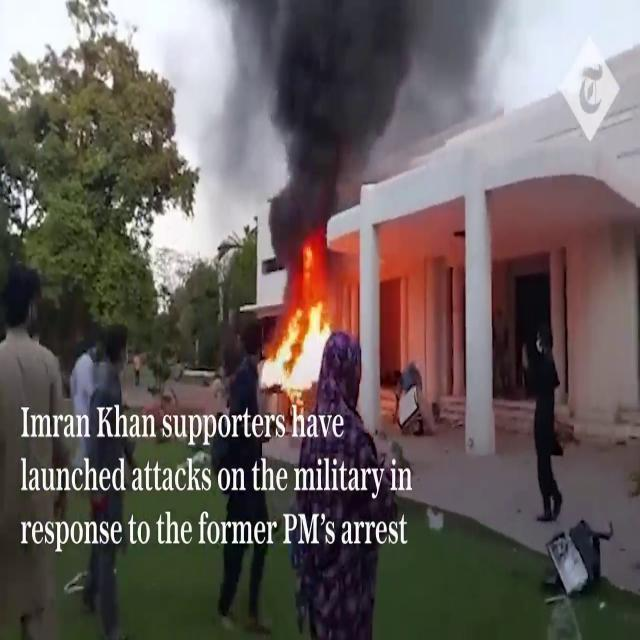Fire: (262, 254, 340, 390)
Smoke: (236, 1, 497, 248)
